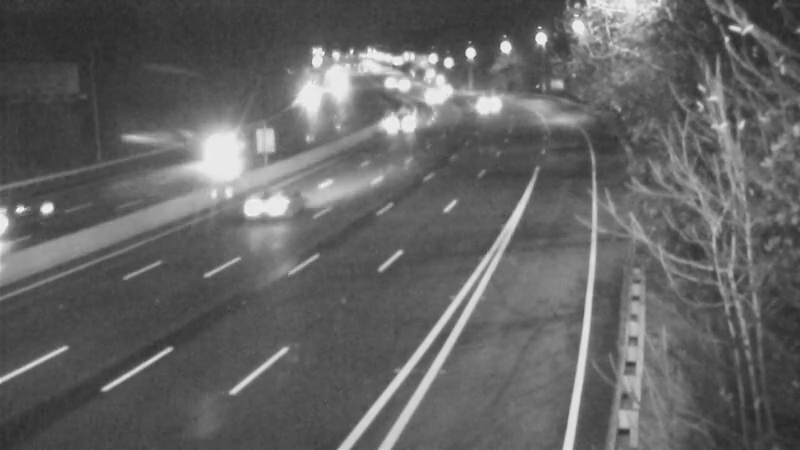vehicle: (228, 168, 308, 248), (1, 173, 75, 253), (411, 68, 461, 118), (461, 77, 511, 127), (372, 97, 422, 147), (207, 120, 257, 170)
